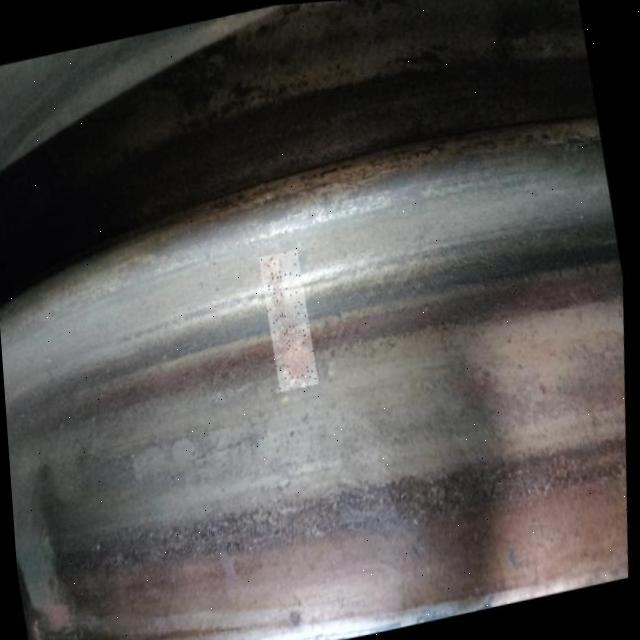Brake_Thermal_Cracks: (266, 249, 306, 392)
